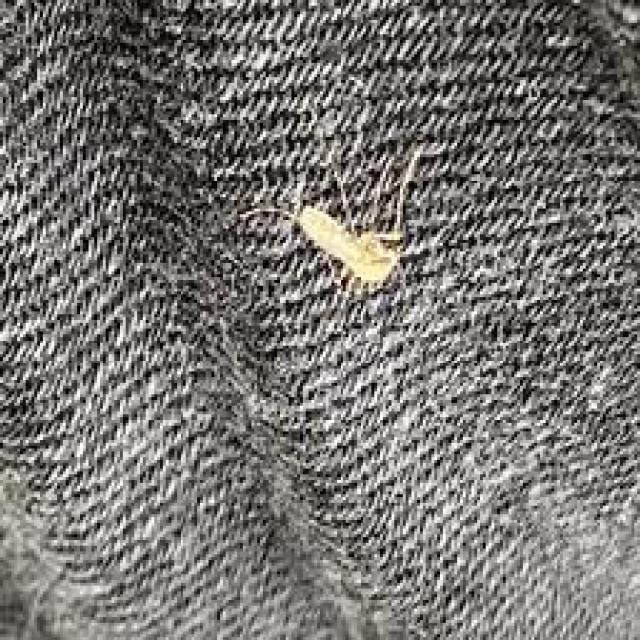Aedes albopictus: (291, 201, 406, 296)
